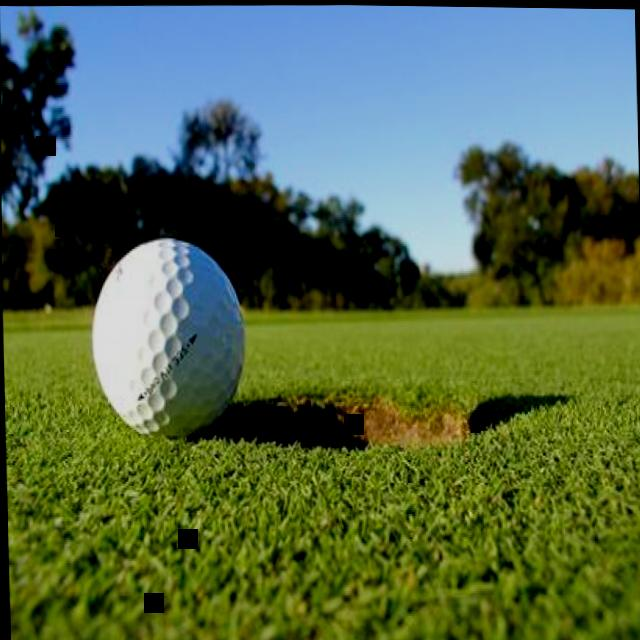golf ball: (84, 228, 254, 443)
